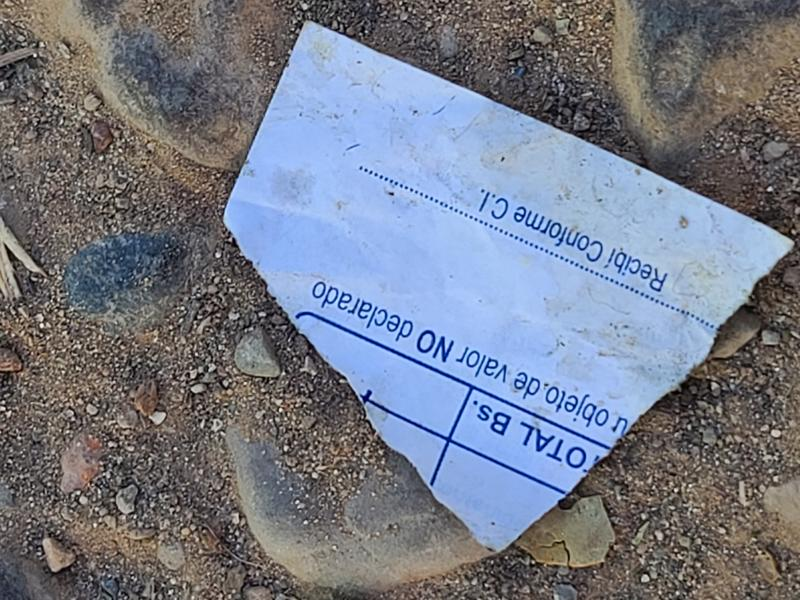papel: (223, 25, 793, 555)
